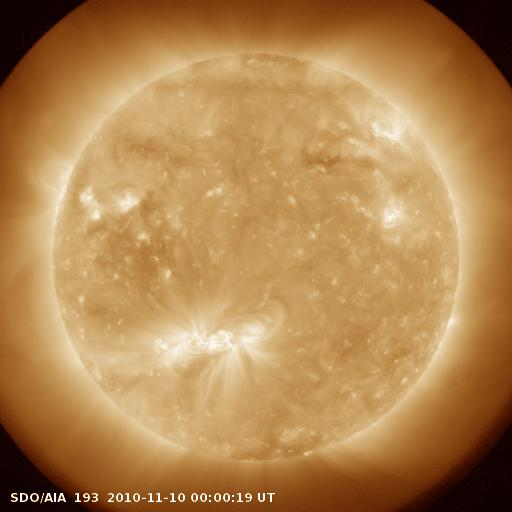coronal_hole: (294, 143, 379, 176)
